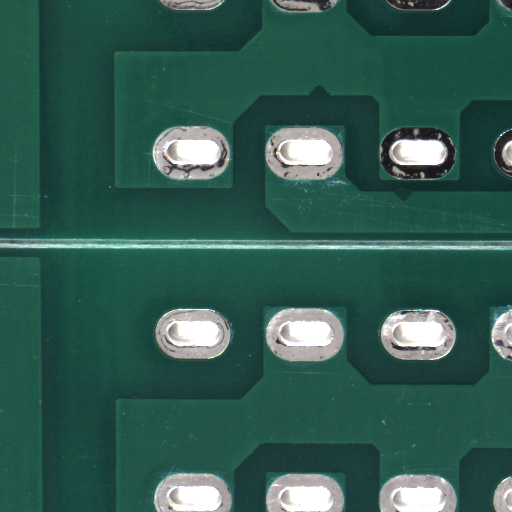Mouse_bite: (319, 91, 340, 104), (403, 195, 421, 209)
